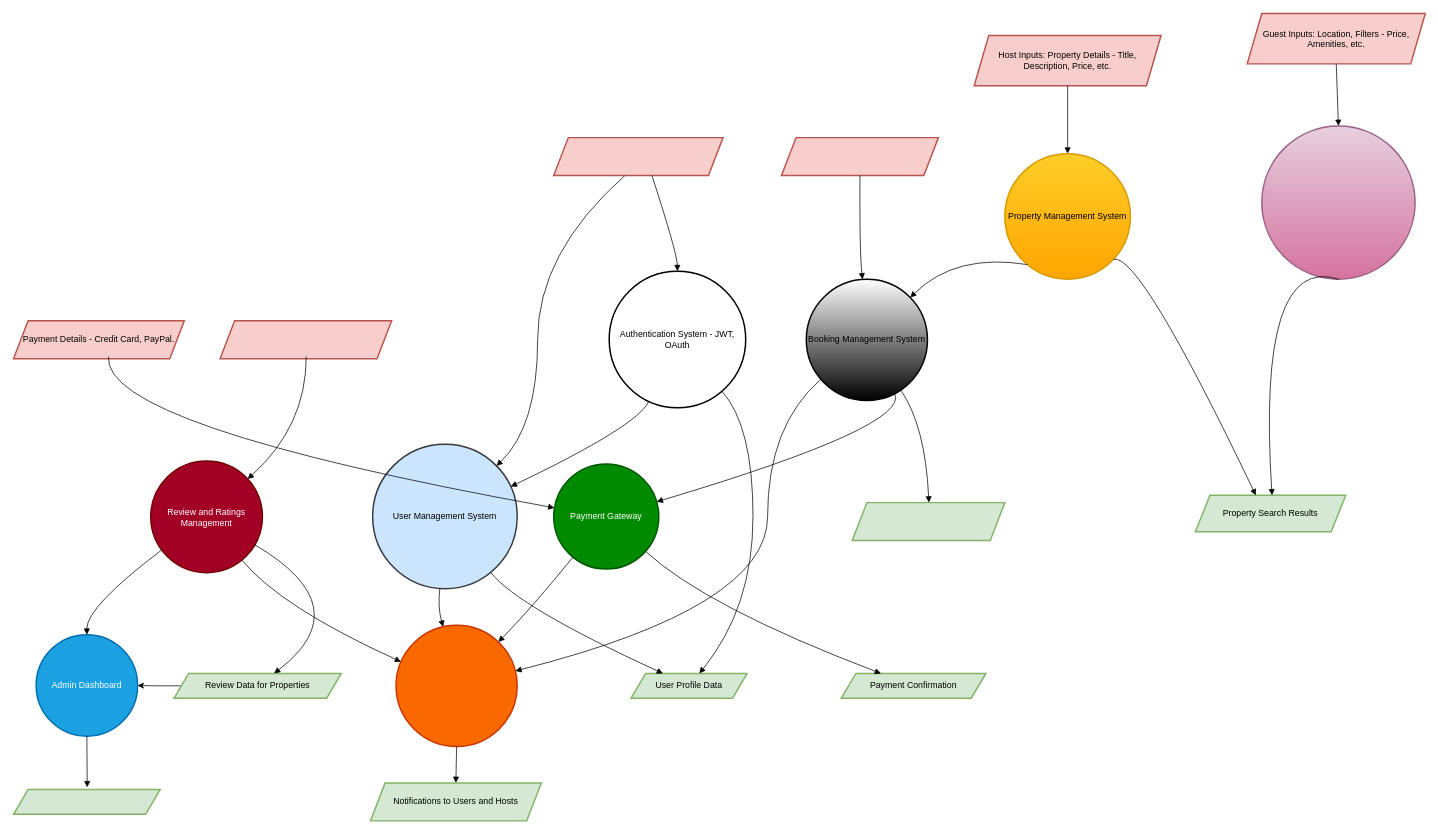
Some shapes in this 1438 by 834 pixel diagram are drawn without their labels. Each missing label, with the centre of its shape:
"Admin Monitoring Data" belongs at (86,801).
"Booking Confirmation, Status" belongs at (928,521).
"Booking Details: Dates, Cancellation Requests" belongs at (859,156).
"Notification System - Email, In-App" belongs at (456,685).
"Review and Ratings Input: Guests, Hosts" belongs at (305,339).
"Search and Filtering System" belongs at (1338,202).
"User Inputs: Registration, Login, Profile Updates" belongs at (638,156).
